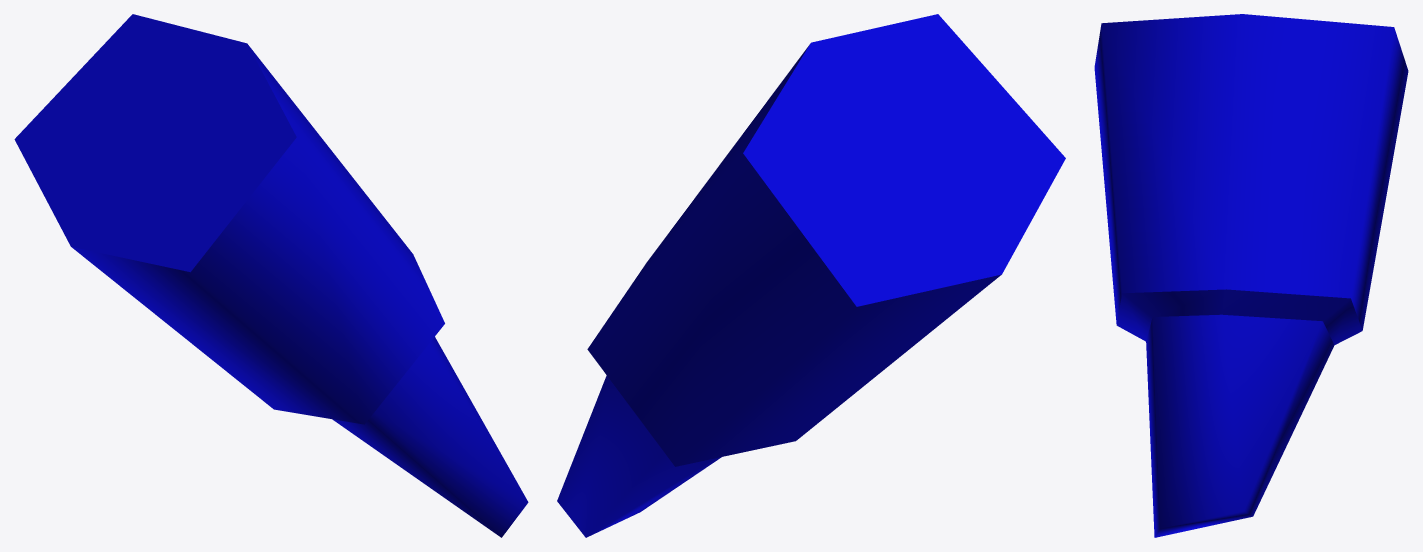
Rendered from leftHand_31.glb.
3 renders of one model, left to right at view 1: azimuth 30°, elevation 25°; view 2: azimuth 150°, elevation 25°; view 3: azimuth 270°, elevation 25°, orthographic. The views are drawn at different scales.
Parts seen in each view (by area): view 1: leftHand; view 2: leftHand; view 3: leftHand.
Part boxes in pixels (x1=…): leftHand: x1=14, y1=14, x2=528, y2=537; leftHand: x1=557, y1=14, x2=1065, y2=537; leftHand: x1=1094, y1=14, x2=1408, y2=537.
Bounding box in the file's own units: 0.1432 × 0.1703 × 0.1106.
